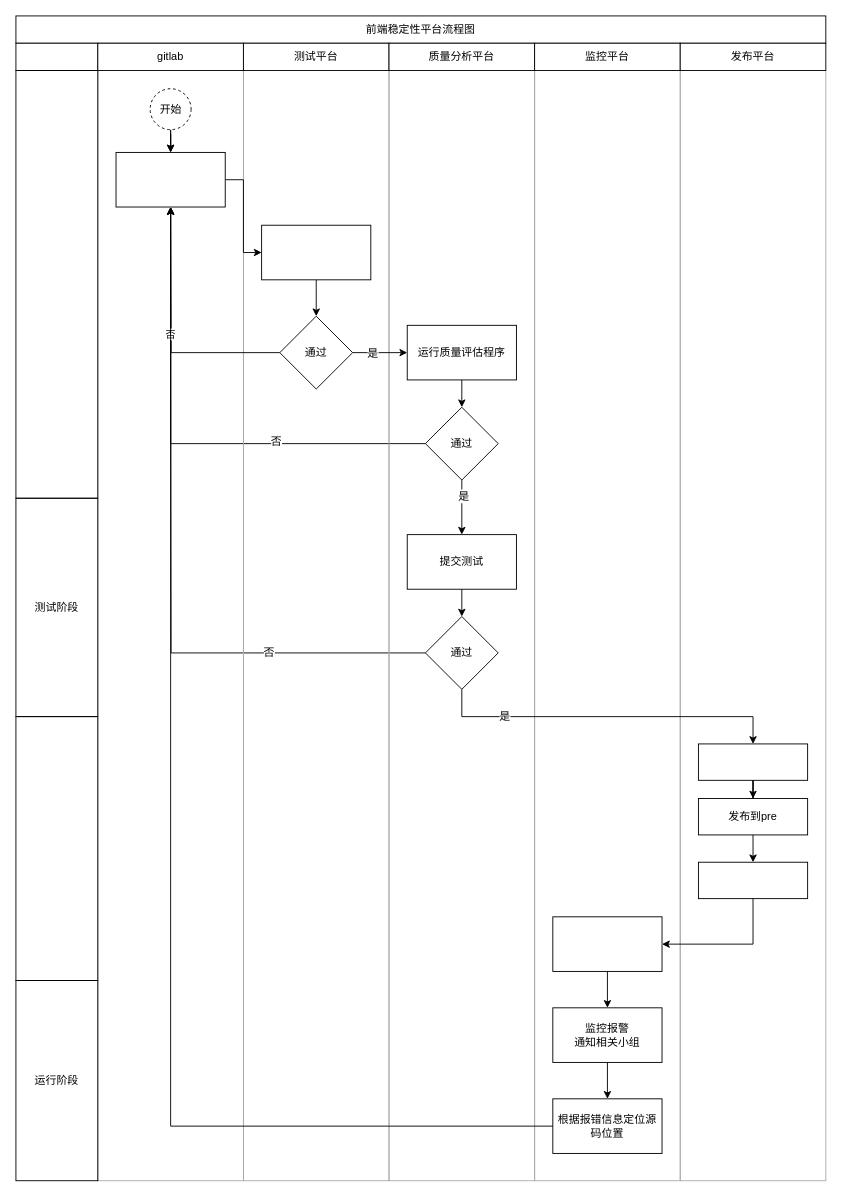
The diagram is 842 pixels wide and 1197 high, and some of its shapes have lost their labels. Here are the shapes that lost their labels. From the top down, the centre of each, then its label:
At pixel 56 56: "阶段".
At pixel 170 179: "编码实现、自测 提交到测试平台".
At pixel 316 252: "自动运行测试程序".
At pixel 56 284: "开发阶段".
At pixel 753 761: "发布到release".
At pixel 56 848: "发布阶段".
At pixel 753 880: "发布到prod".
At pixel 607 943: "接入监控平台".
